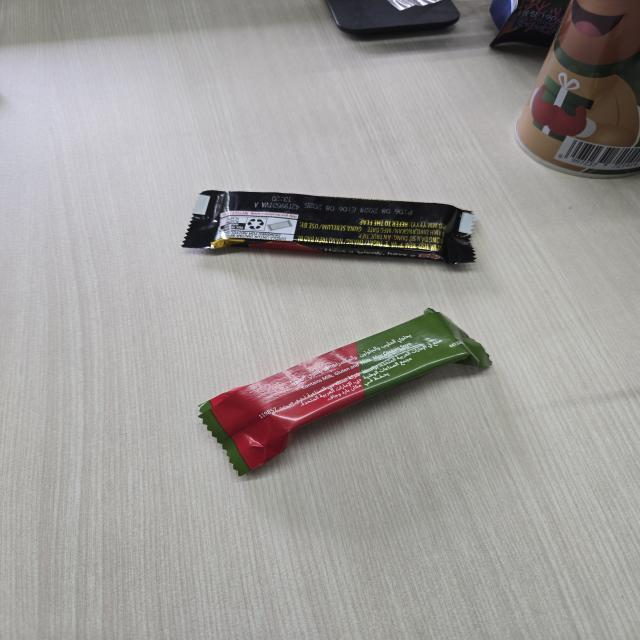chocolate-bar: (197, 308, 493, 478), (180, 179, 488, 275)
